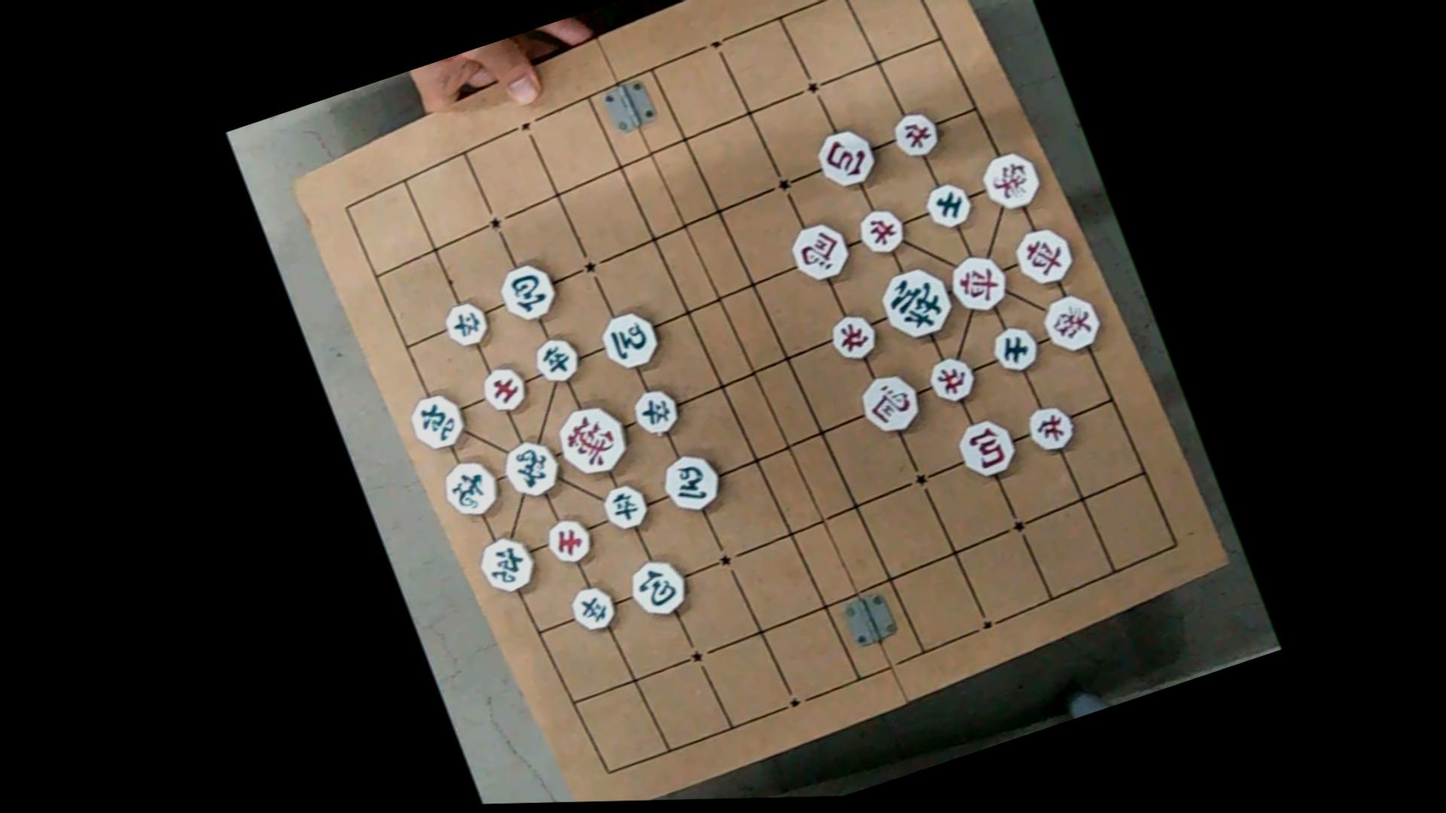cha_green: (473, 528, 541, 599), (405, 385, 473, 455)
cha_red: (1007, 218, 1079, 291), (942, 248, 1011, 318)
jol_green: (629, 383, 686, 443), (529, 332, 586, 390), (439, 296, 494, 352), (567, 580, 622, 636), (596, 483, 652, 536)
jol_red: (920, 351, 986, 410), (824, 307, 883, 366), (1022, 400, 1080, 457), (853, 202, 908, 259), (888, 105, 943, 161)
ma_green: (655, 450, 727, 522), (596, 306, 664, 377)
ma_red: (850, 366, 926, 440), (786, 214, 857, 285)
po_green: (622, 552, 693, 623), (495, 258, 563, 327)
po_red: (952, 413, 1023, 483), (809, 123, 880, 193)
sa_green: (987, 319, 1042, 378), (920, 178, 975, 233)
sa_red: (474, 361, 534, 420), (542, 513, 598, 570)
sang_green: (434, 453, 507, 523), (499, 434, 569, 505)
sang_red: (1036, 289, 1106, 356), (978, 148, 1045, 212)
wang_green: (874, 260, 959, 346)
wang_red: (552, 397, 635, 483)
